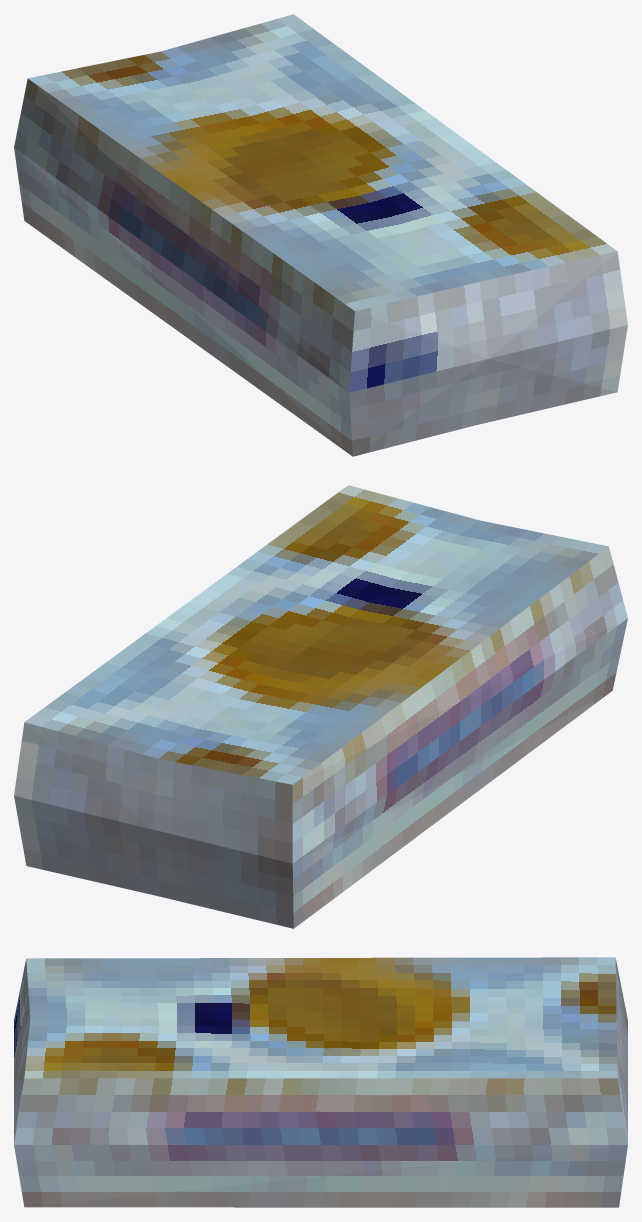
Rendered from TissuePack02.obj.
The picture shows the model from 3 angles, top to bottom: view 1: azimuth 30°, elevation 25°; view 2: azimuth 150°, elevation 25°; view 3: azimuth 270°, elevation 25°; orthographic projection. The views are drawn at different scales.
Visible parts, largest first — view 1: TissuePack02; view 2: TissuePack02; view 3: TissuePack02.
Part boxes in pixels (box(x1,y1,x2,y2)): TissuePack02: box(14, 14, 627, 456); TissuePack02: box(14, 485, 627, 928); TissuePack02: box(14, 957, 627, 1207).
Size of the model in its own units: 0.1242 by 0.0621 by 0.2587.
